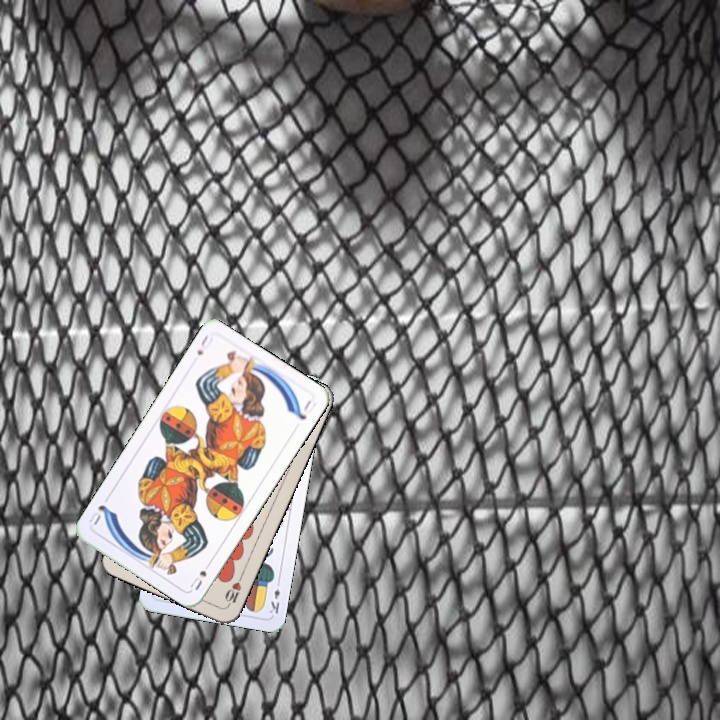EK: (265, 576, 283, 616)
H10: (221, 570, 246, 609)
SU: (186, 556, 214, 593), (193, 331, 216, 358)
